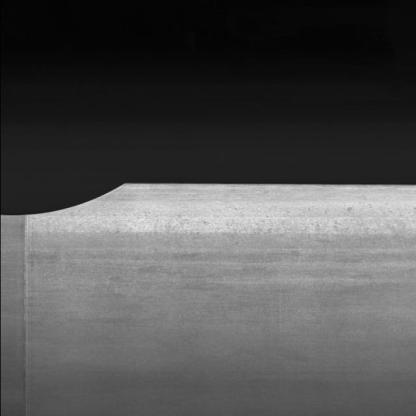crescent_gap: (2, 170, 131, 222)
welding_line: (18, 210, 48, 416)
